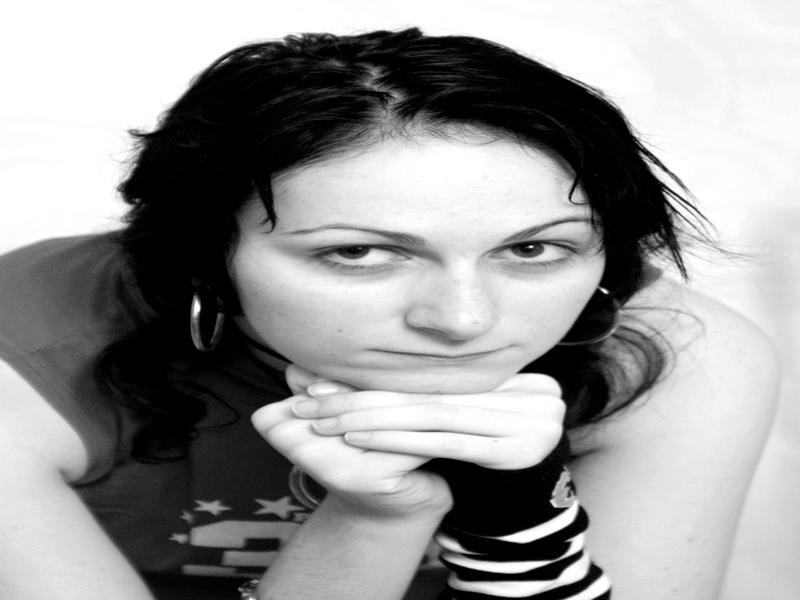person: (11, 28, 778, 600)
